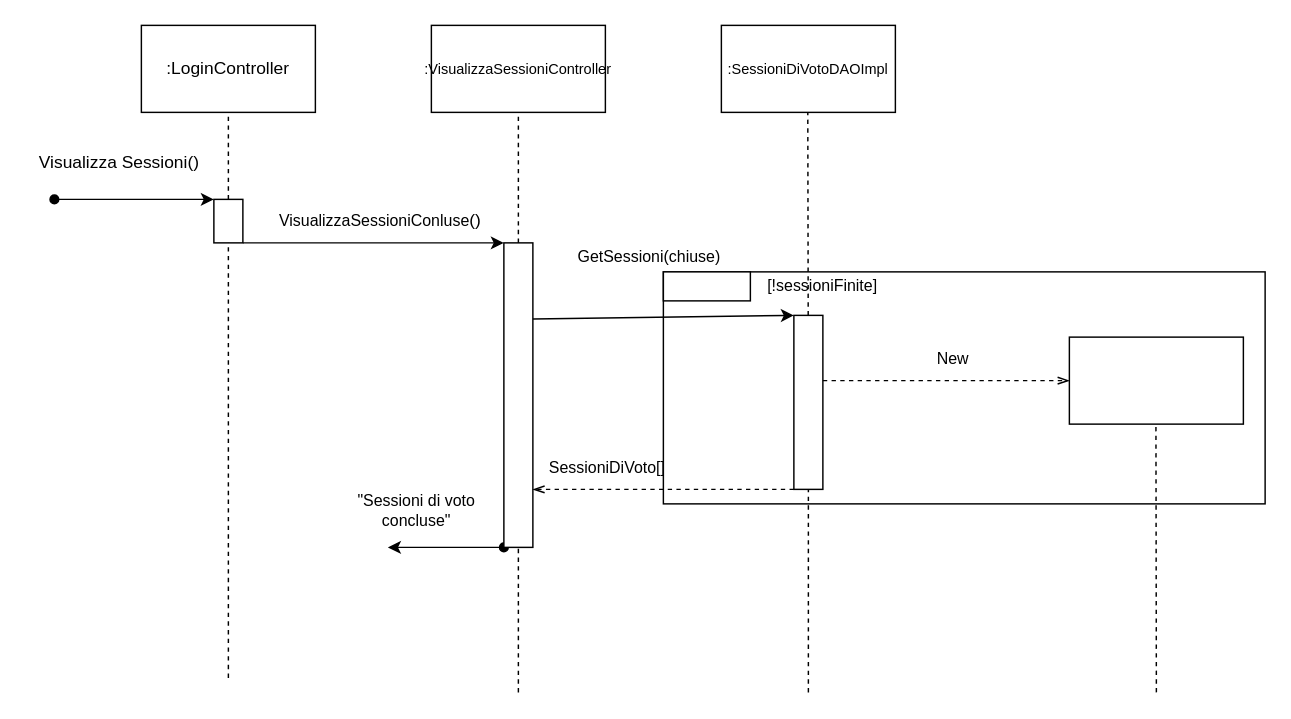
Image size: 1291x719. Some labels were removed from this diagram. The centre of each missing label's shape, as x and y in pixels:
":SessioniDiVoto" goes at point 1155,380.
"Loop()" goes at point 706,285.
